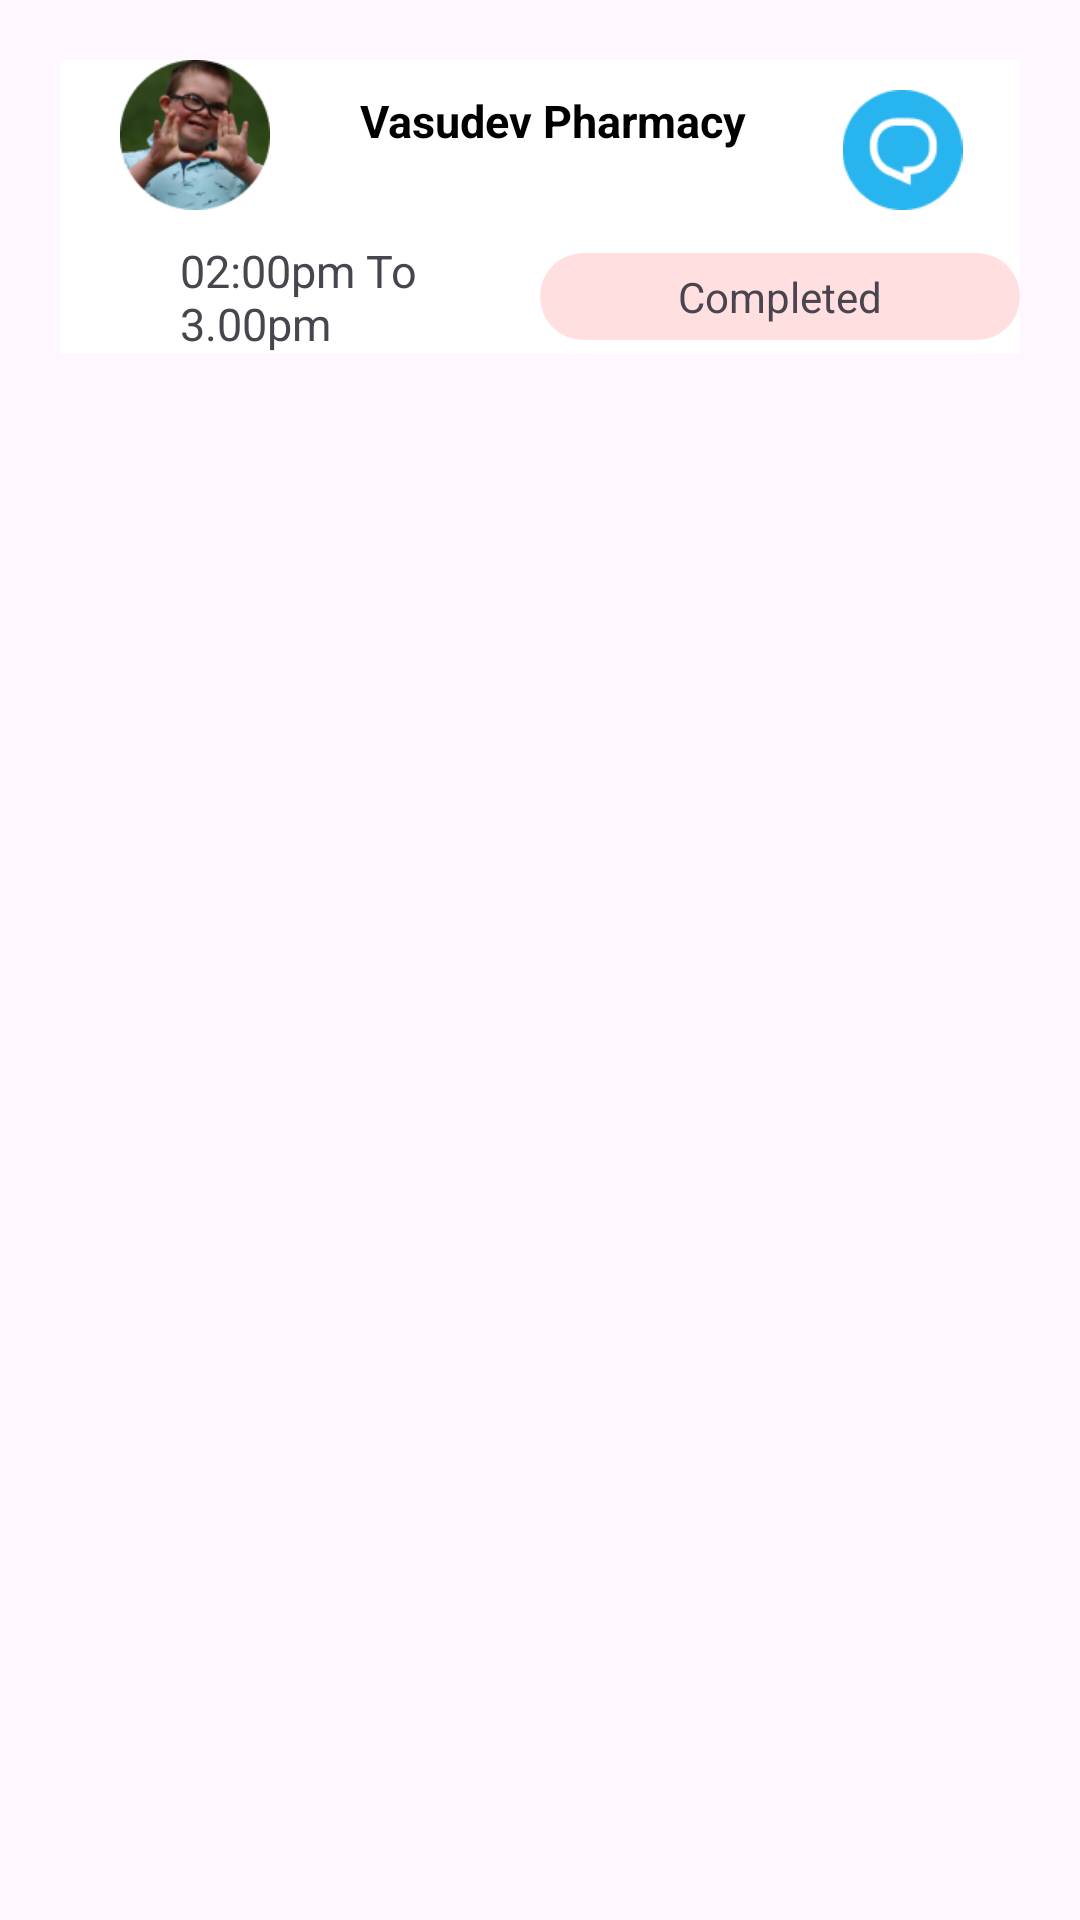

Where to tap for icons on this 1080px x 1920px app screen, as (x=x, y=y):
personpphoto: (x=195, y=135)
